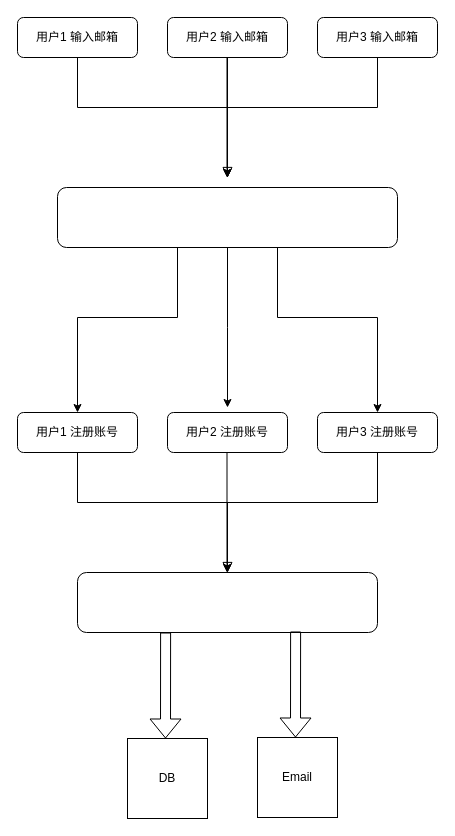
This 455x836 diagram has some shape labels left out. The box of each missing label's shape, as (x1, y1, x2, y2) in pixels:
MQ: (76, 572, 378, 632)
服务器发送邮件到客户邮箱: (56, 186, 398, 248)
